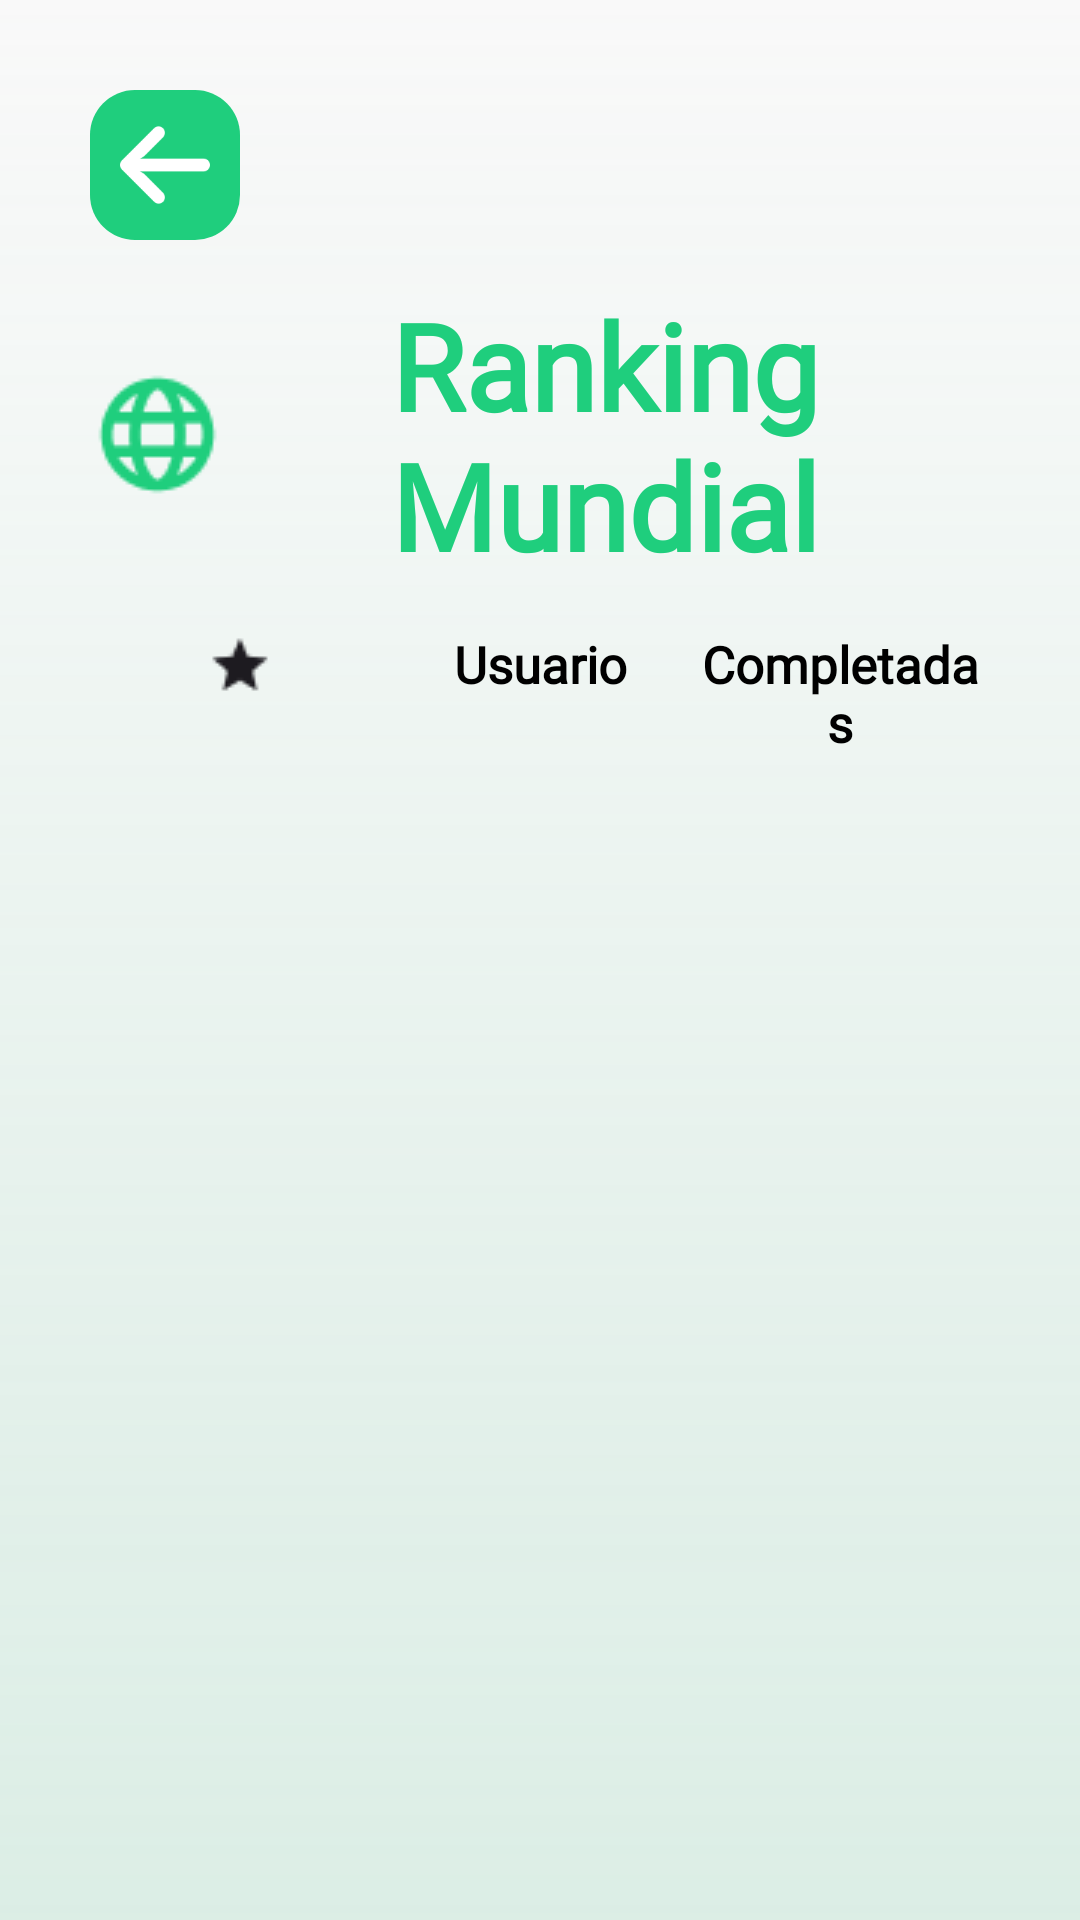

Icons on this 1080px x 1920px Android screen, each with the point to tap as (x,y):
estrellaranking: (240,664)
flecha izquierda: (165,165)
